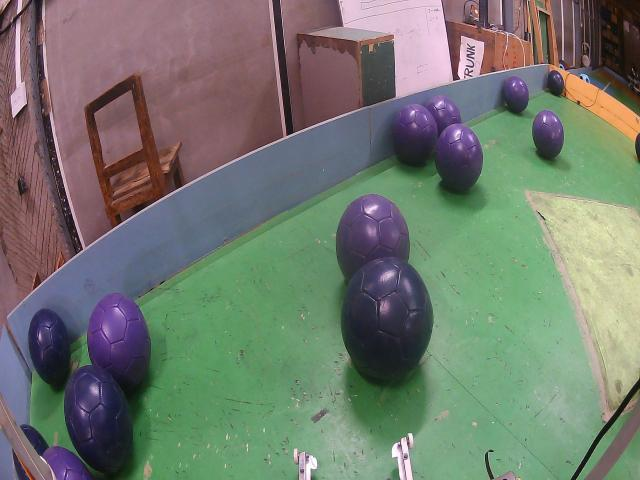jambhalya: (336, 193, 410, 281), (88, 293, 151, 392), (435, 123, 482, 192), (394, 103, 438, 165), (42, 445, 92, 480), (532, 110, 564, 158), (426, 95, 461, 135), (504, 77, 529, 113)
kaalyya: (341, 257, 434, 380), (64, 365, 132, 473), (29, 308, 70, 383), (548, 70, 564, 96)
